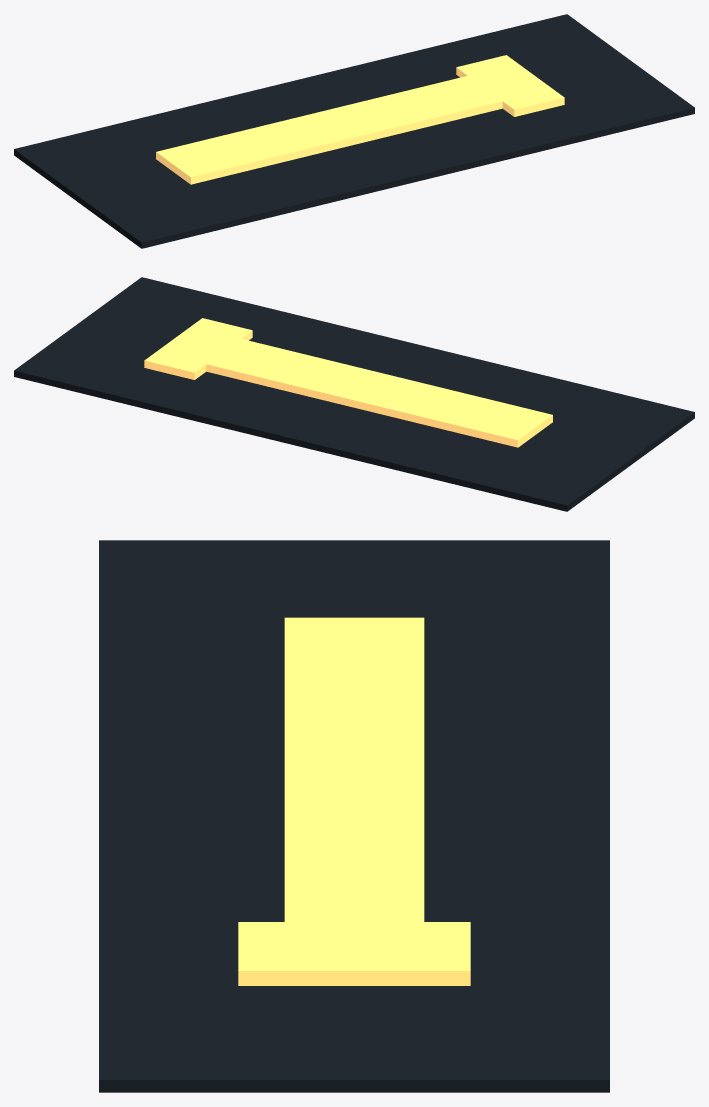
The model's file is np_z05_silhouette_sol.glb.
3 renders of one model, top to bottom at view 1: azimuth 30°, elevation 25°; view 2: azimuth 150°, elevation 25°; view 3: azimuth 270°, elevation 25°, orthographic. The views are drawn at different scales.
Visible parts, largest first — view 1: PlaqueSol, Silhouette, RepereTete; view 2: PlaqueSol, Silhouette, RepereTete; view 3: PlaqueSol, Silhouette, RepereTete.
Boxes of the visible parts, x1,y1,x2,y2 form: PlaqueSol: [14, 14, 694, 248]; Silhouette: [156, 64, 552, 184]; RepereTete: [456, 55, 564, 116]; PlaqueSol: [14, 277, 694, 511]; Silhouette: [156, 326, 552, 447]; RepereTete: [144, 318, 252, 379]; PlaqueSol: [99, 540, 609, 1092]; Silhouette: [284, 617, 424, 985]; RepereTete: [238, 922, 470, 985].
Bounding box in the file's own units: 1.1 × 0.027 × 0.44.
